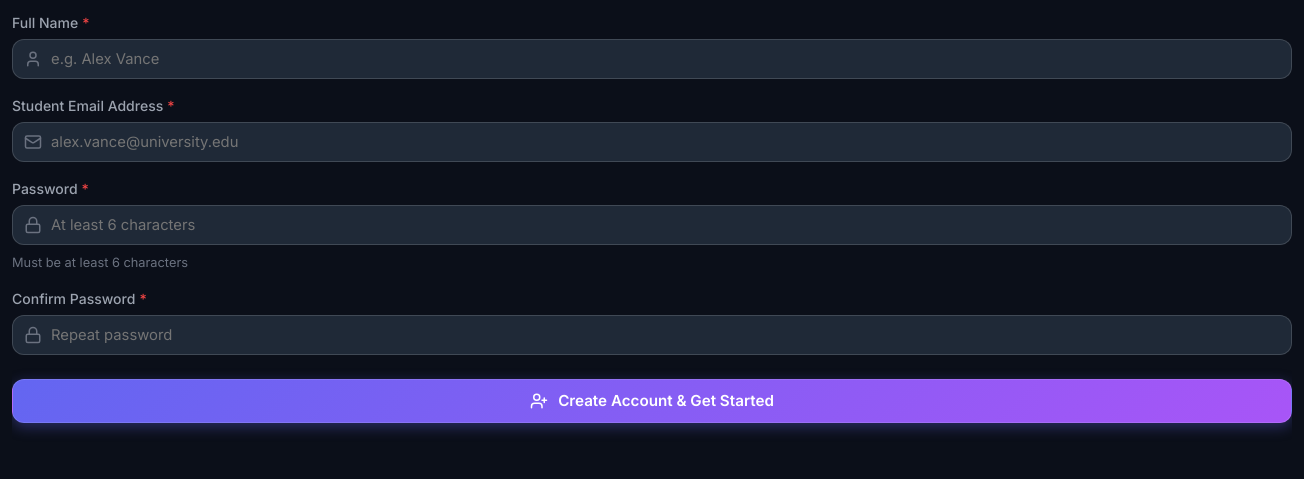
Authentication & Protected Routes Tests (Items 1, 2, 3) › 2. Registration Form validates password matching and input integrity
This screenshot has width=1304, height=479.
Expected: the field with placeholder "alex.vance@university.edu" is shown, [12,122,1292,162]
Expected: the password field with placeholder "At least 6 characters" is shown, [12,205,1292,245]
In the field with placeholder "e.g. Alex Vance": x=652, y=59 [12,39,1292,79], type "John Doe"
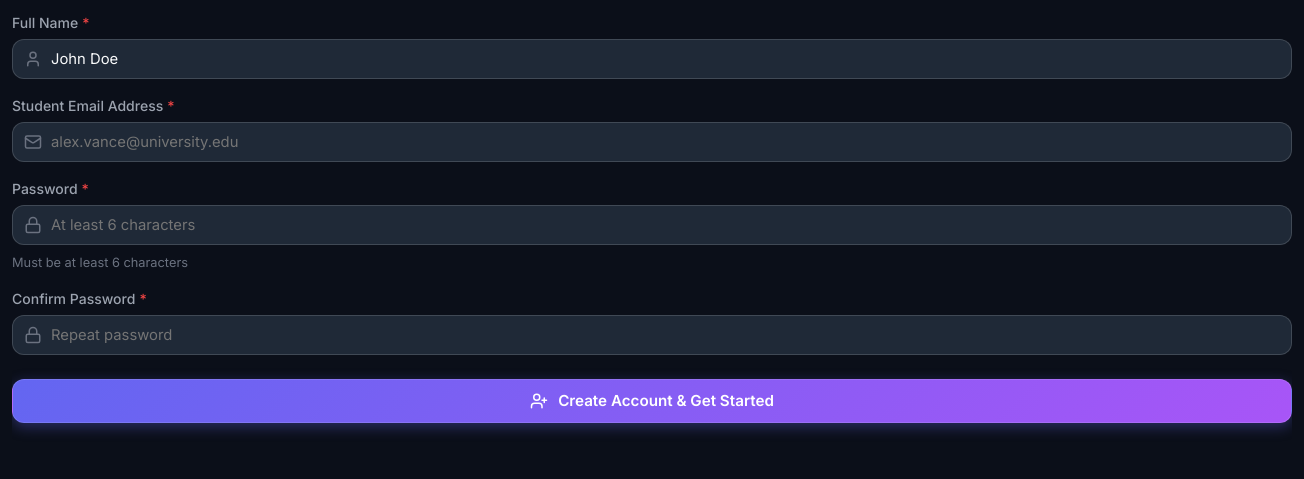
In the field with placeholder "alex.vance@university.edu": x=652, y=142 [12,122,1292,162], type "john@mit.edu"
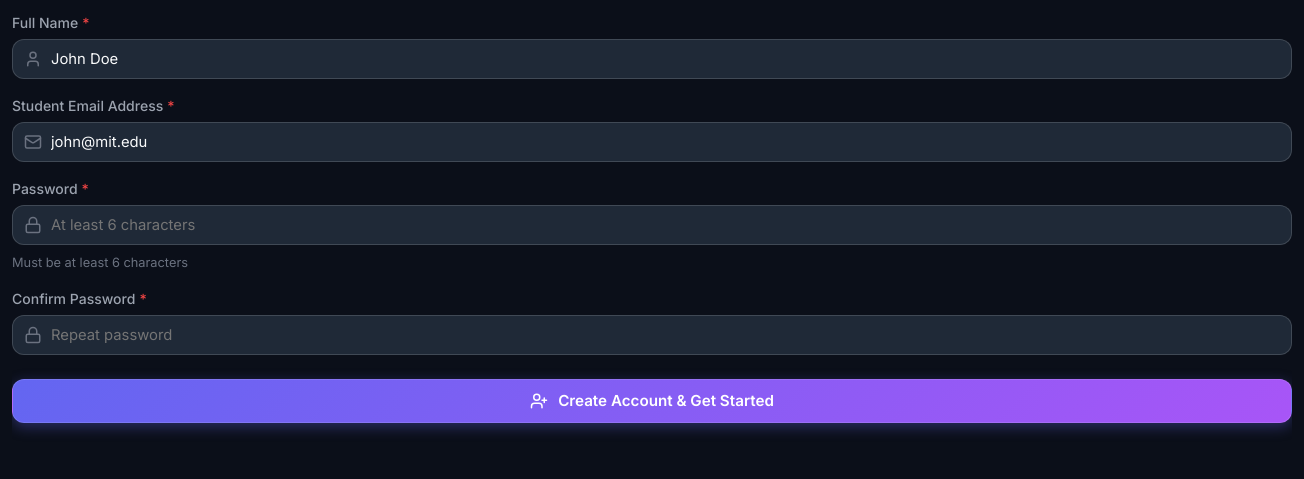
In the password field with placeholder "At least 6 characters": x=652, y=225 [12,205,1292,245], type "Secret123"
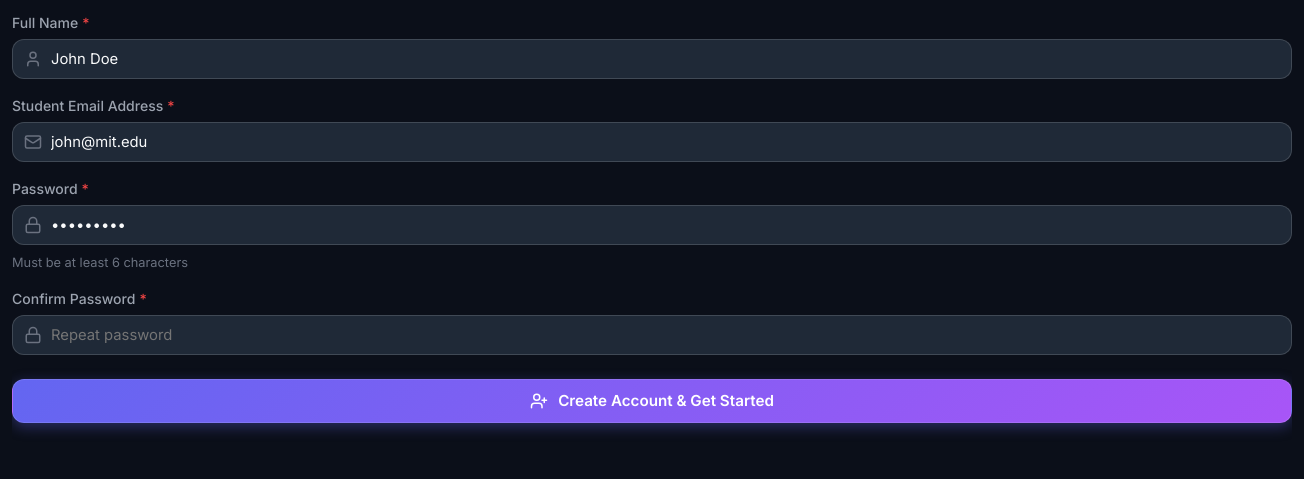
In the password field with placeholder "Repeat password": x=652, y=335 [12,315,1292,355], type "Mismatch999"
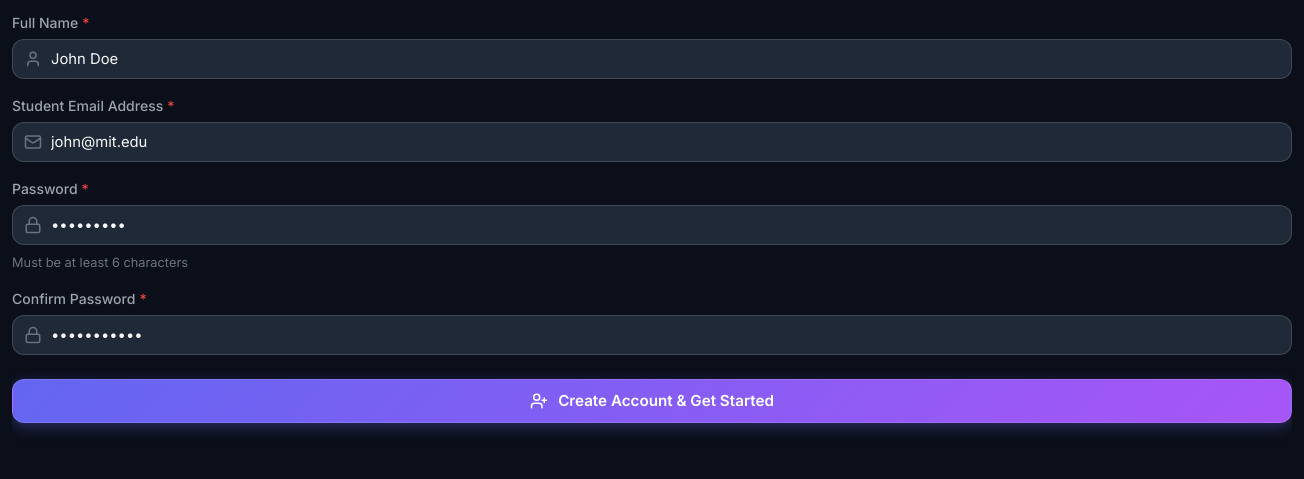
Click the button "Create Account & Get Started": x=652, y=401 [12,379,1292,423]
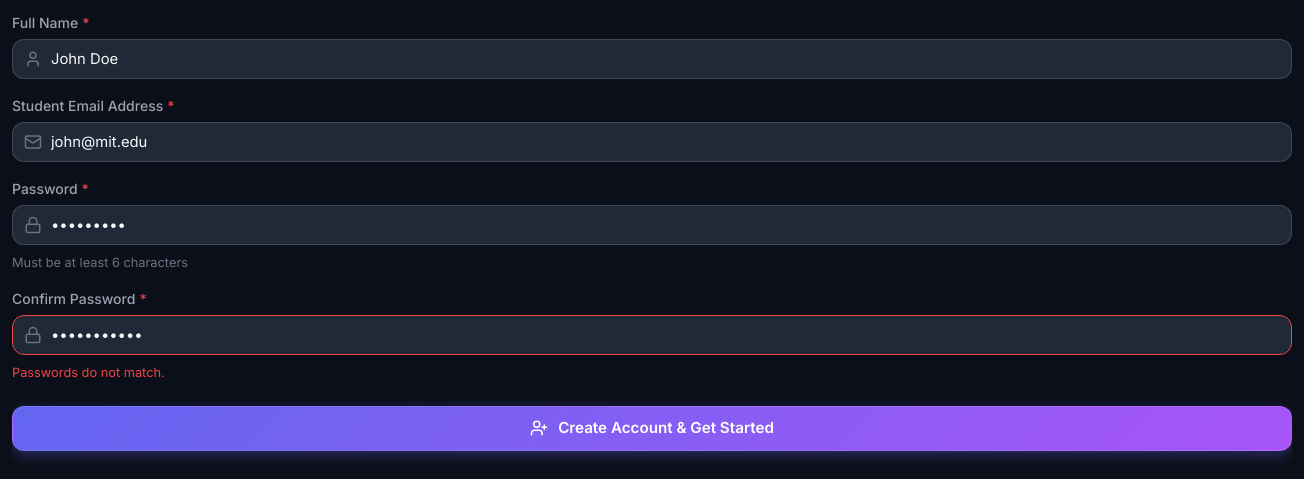
Result: the text "Passwords do not match." is shown at [12,365,165,380]
